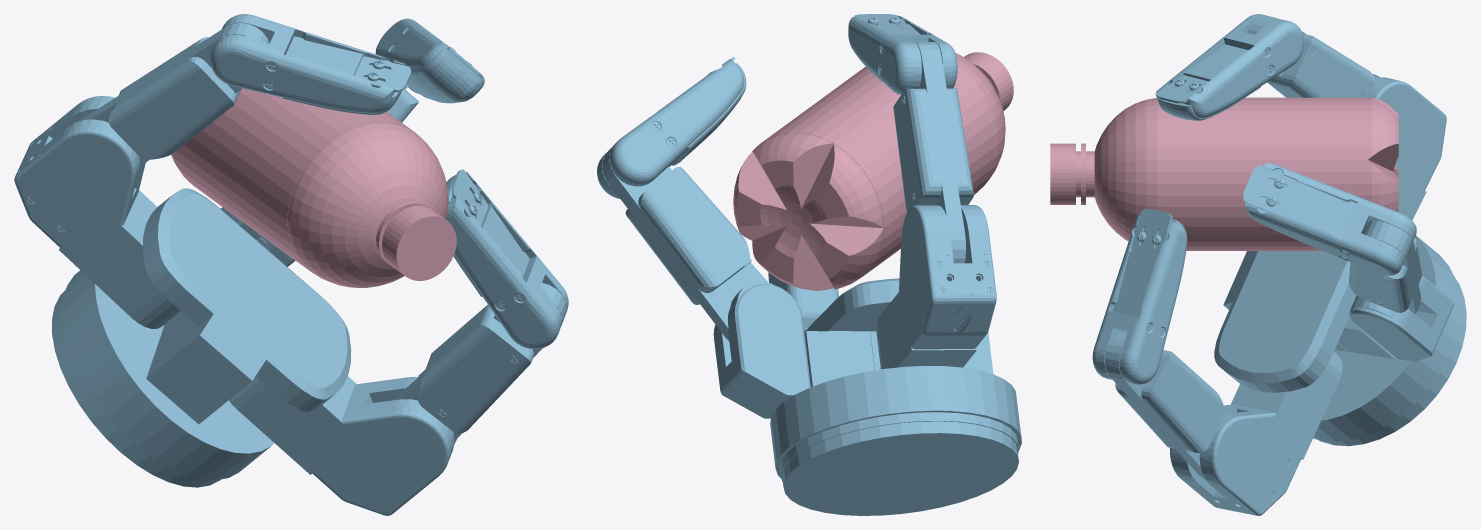
3 renders of one model, left to right at view 1: azimuth 30°, elevation 25°; view 2: azimuth 150°, elevation 25°; view 3: azimuth 270°, elevation 25°, orthographic. The views are drawn at different scales.
Visible parts, largest first — view 1: world; view 2: world; view 3: world.
Boxes of the visible parts, x1,y1,x2,y2 form: world: [14, 14, 568, 515]; world: [597, 14, 1021, 515]; world: [1050, 14, 1466, 515].
Size of the model in its own units: 0.1685 by 0.1903 by 0.1632.
